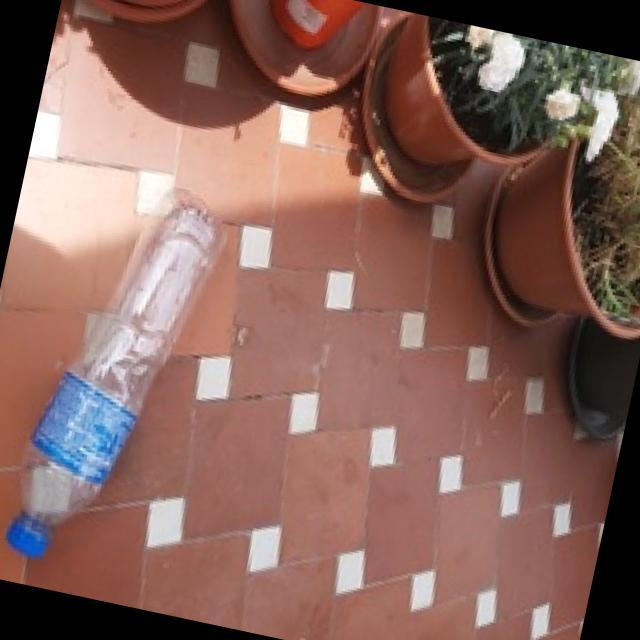good: (0, 161, 242, 593)
